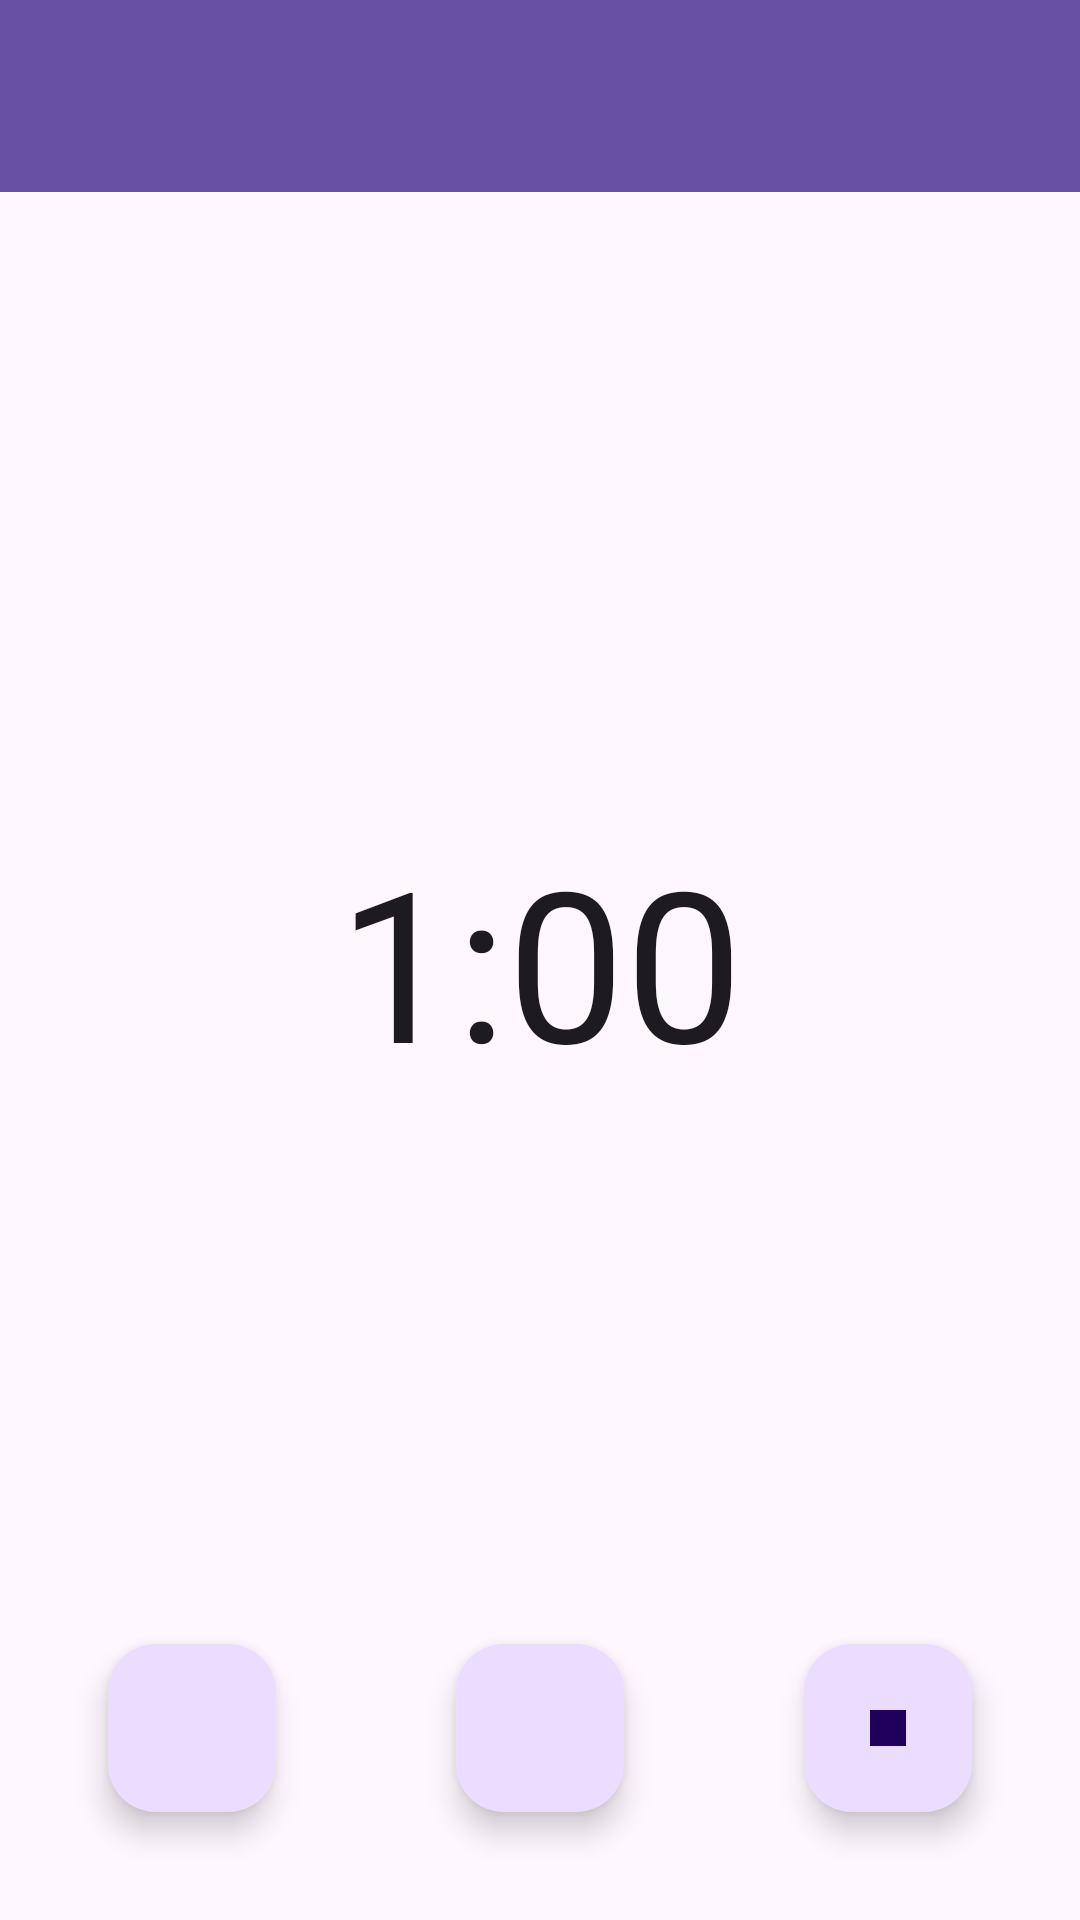

Screen size 1080 × 1920. Icon name, then its center in pixels as (x,y):
Stops the timer: (888,1728)
